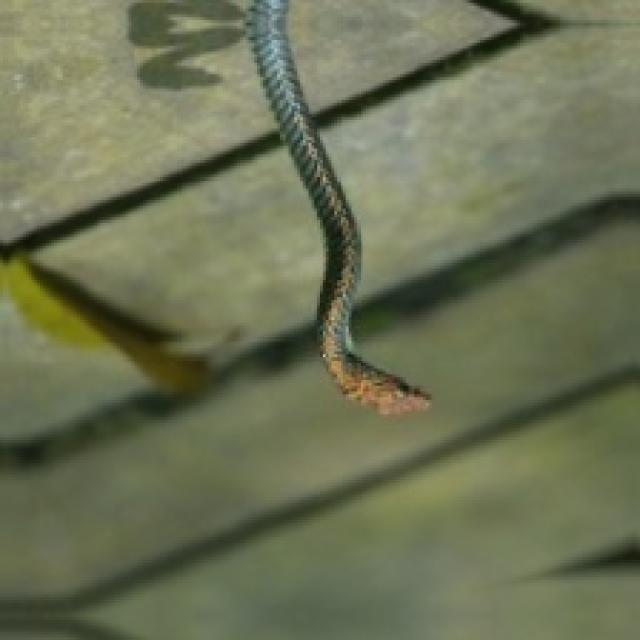paradise tree snake: (249, 0, 429, 411)
